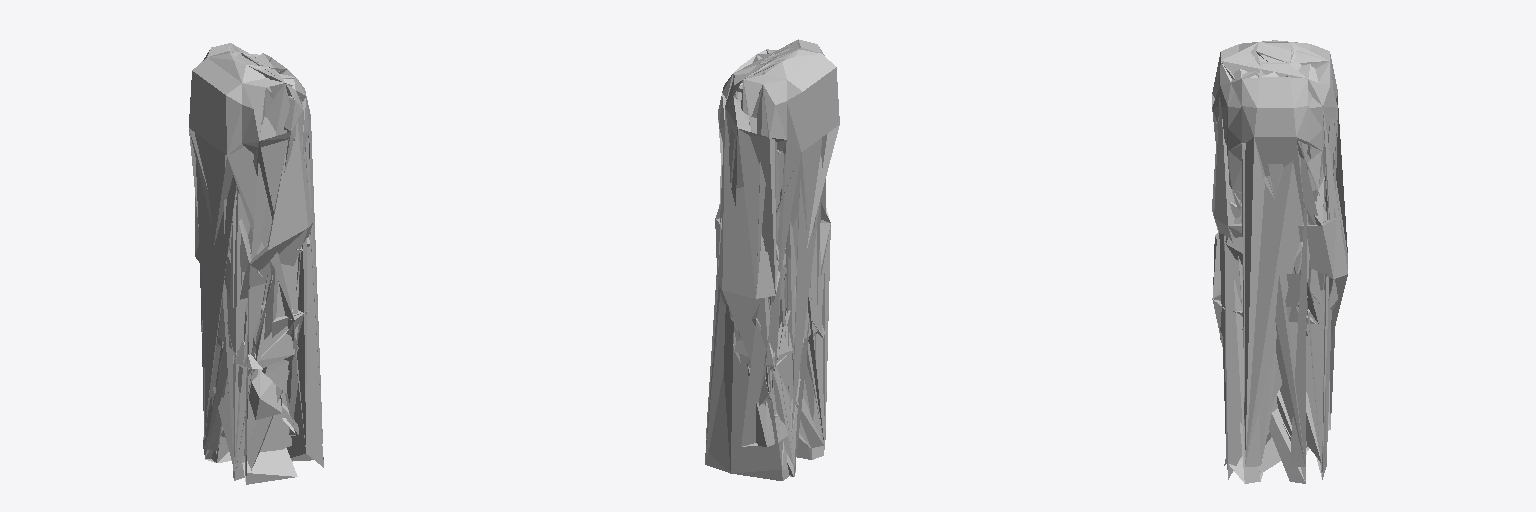
Rendered from marine armored.obj.
3 renders of one model, left to right at view 1: azimuth 30°, elevation 25°; view 2: azimuth 150°, elevation 25°; view 3: azimuth 270°, elevation 25°, orthographic.
Visible parts, largest first — view 1: arms, legs, torso, head, _left_foot; view 2: arms, legs, torso, head, _left_foot, bip01_pelvis; view 3: legs, arms, torso, head.
Part boxes in pixels (left/top/right/bottom): arms: left=195, top=53, right=323, bottom=484; legs: left=189, top=44, right=322, bottom=470; torso: left=189, top=43, right=310, bottom=195; head: left=201, top=45, right=302, bottom=467; _left_foot: left=189, top=58, right=305, bottom=346; arms: left=705, top=49, right=830, bottom=480; legs: left=705, top=40, right=835, bottom=480; torso: left=718, top=39, right=839, bottom=153; head: left=721, top=43, right=839, bottom=465; _left_foot: left=733, top=49, right=801, bottom=365; bip01_pelvis: left=743, top=45, right=798, bottom=133; legs: left=1212, top=42, right=1347, bottom=480; arms: left=1212, top=40, right=1347, bottom=483; torso: left=1212, top=40, right=1337, bottom=195; head: left=1228, top=40, right=1325, bottom=323.
Bounding box in the file's own units: 14.32 × 55.3 × 16.76.